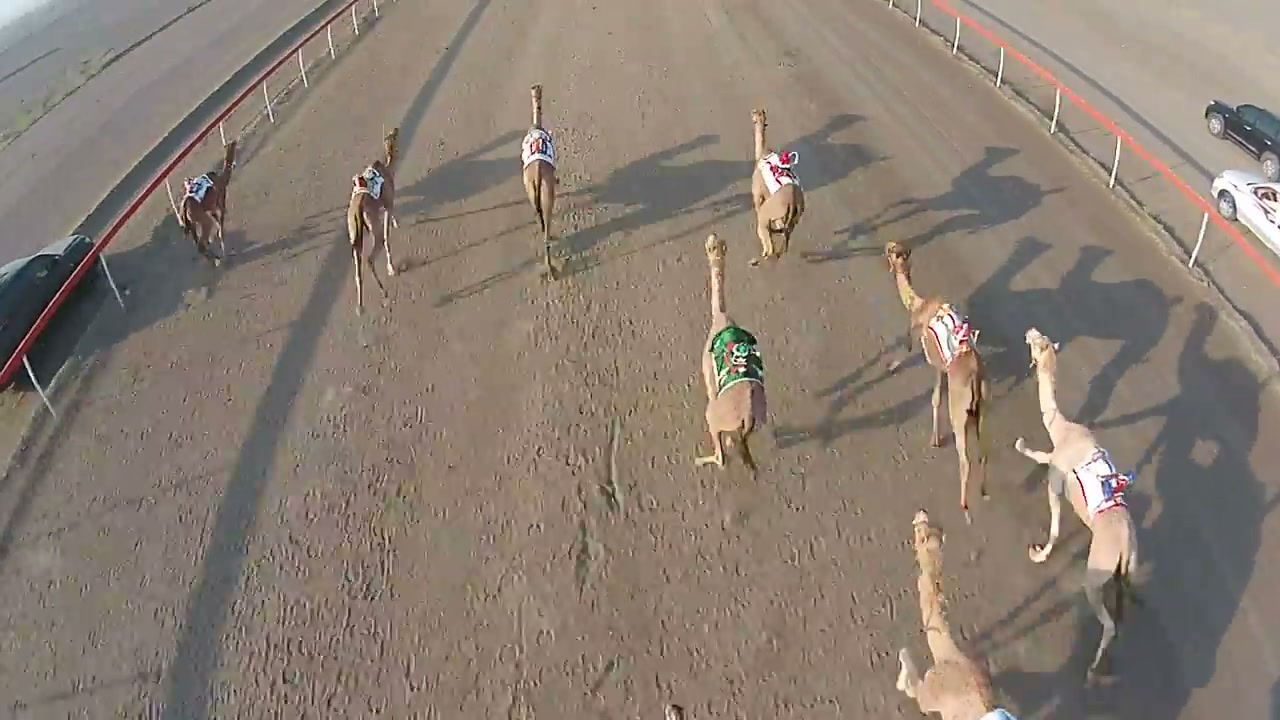animal_footprint: (217, 286, 446, 717), (766, 253, 915, 717), (500, 264, 642, 709), (659, 446, 813, 709)
